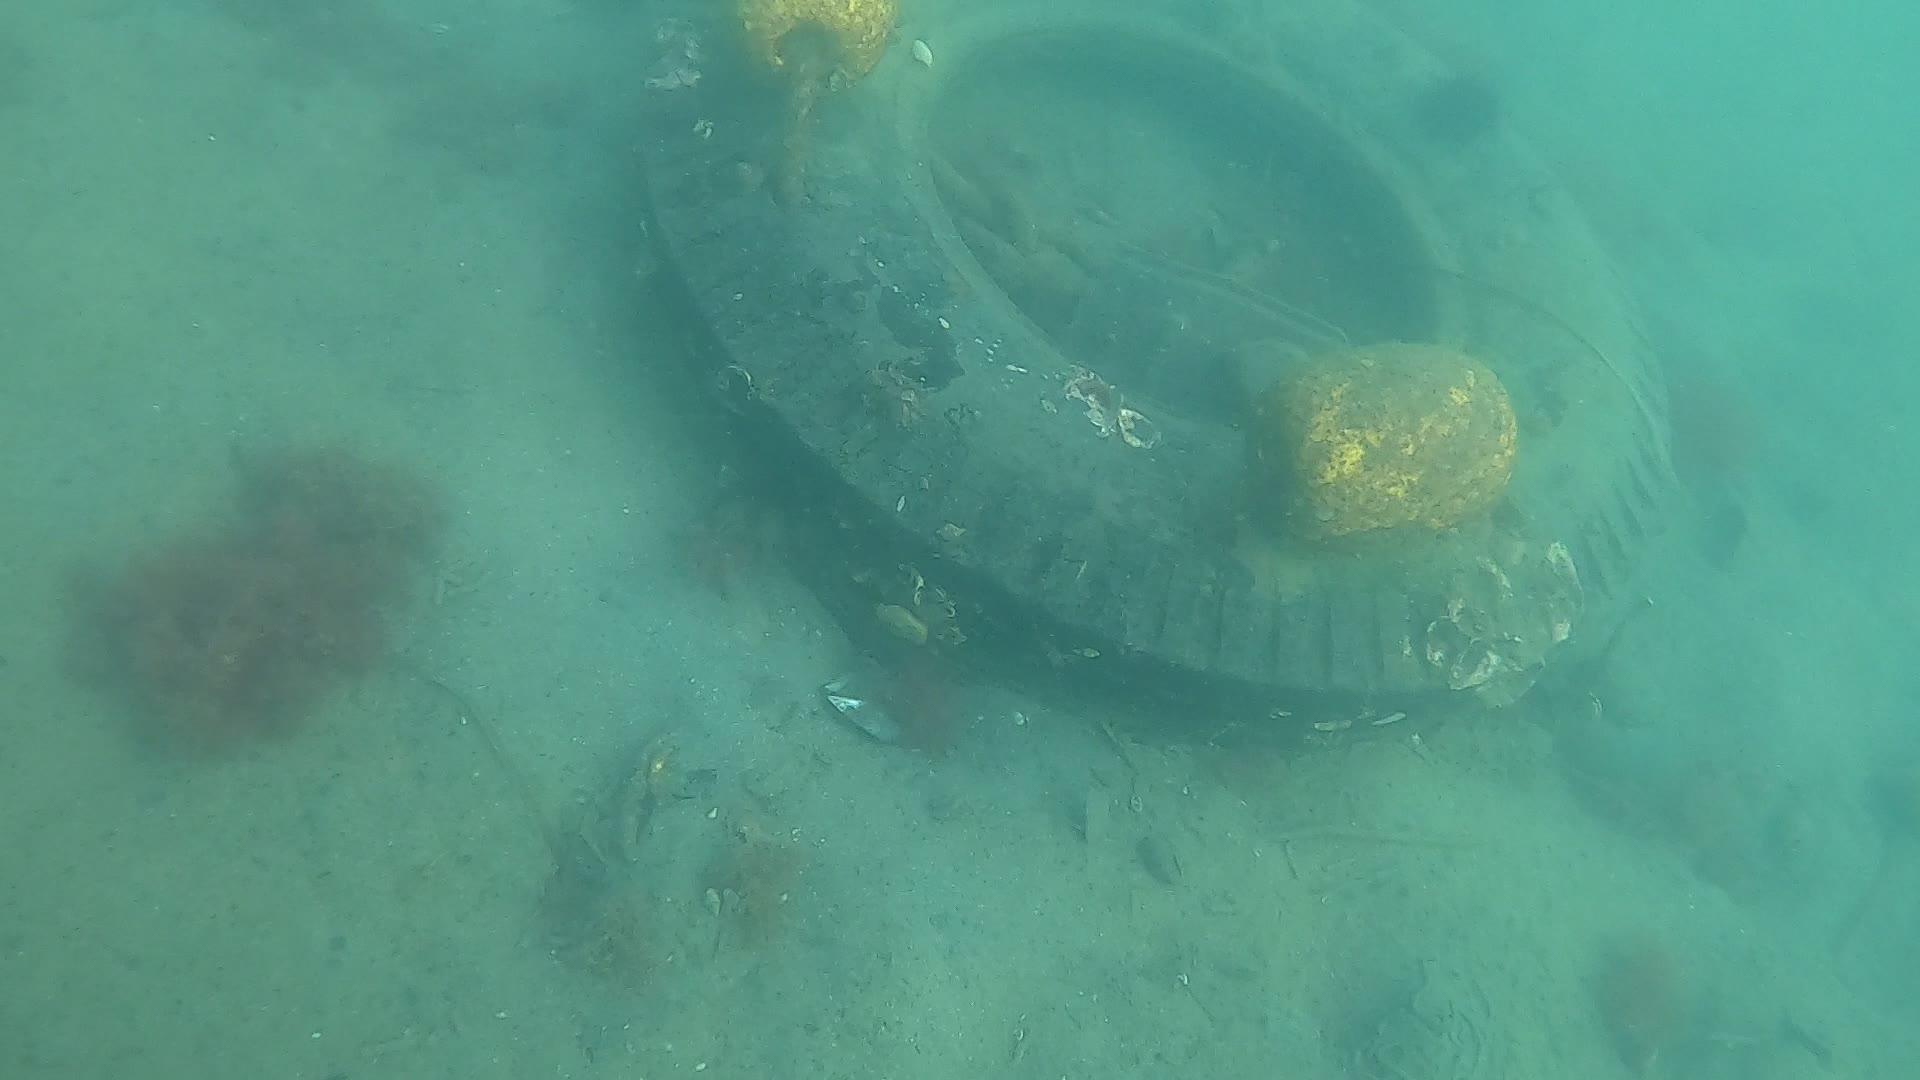bundle of ropes: (930, 152, 1108, 290)
tire: (637, 0, 1672, 752)
